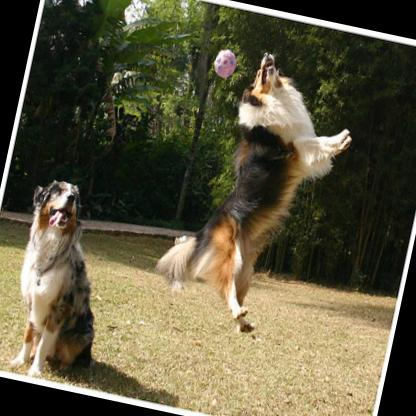Shetland_sheepdog: (144, 35, 364, 346), (0, 172, 127, 391)
